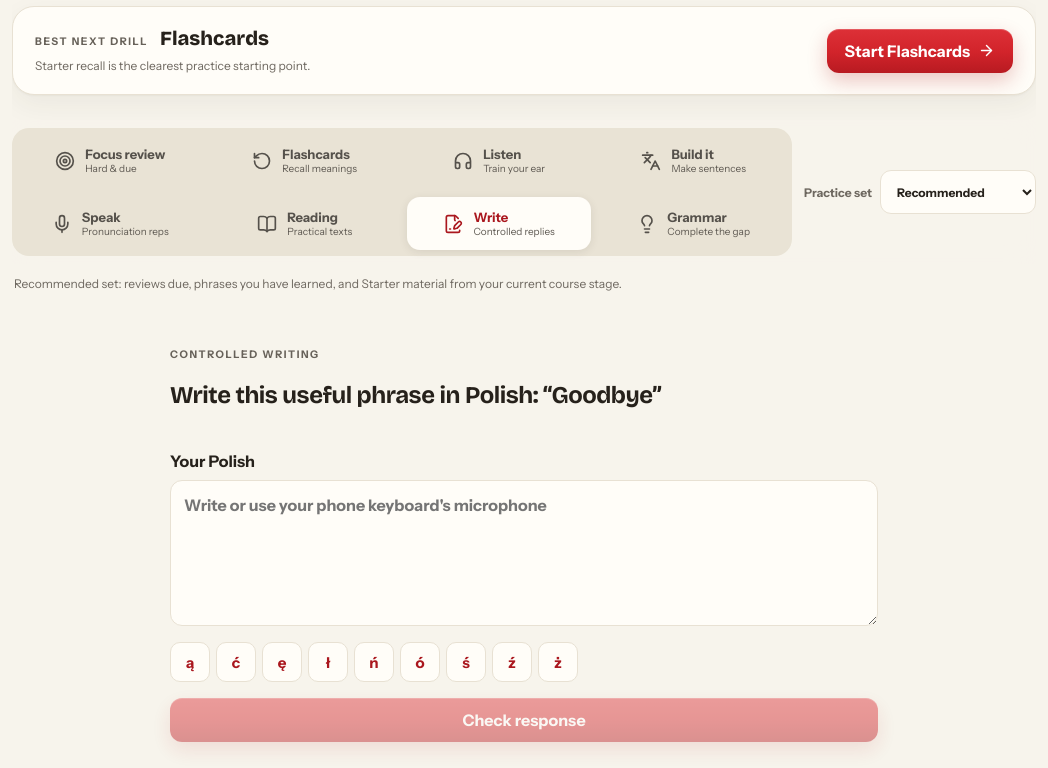
Test: expanded practice modes › scores an accepted controlled-writing answer
(page scrolled)
Type "Do widzenia" into the text box labelled "Your Polish".
click(524, 554); type("Do widzenia")  # box left=170, top=480, right=878, bottom=626
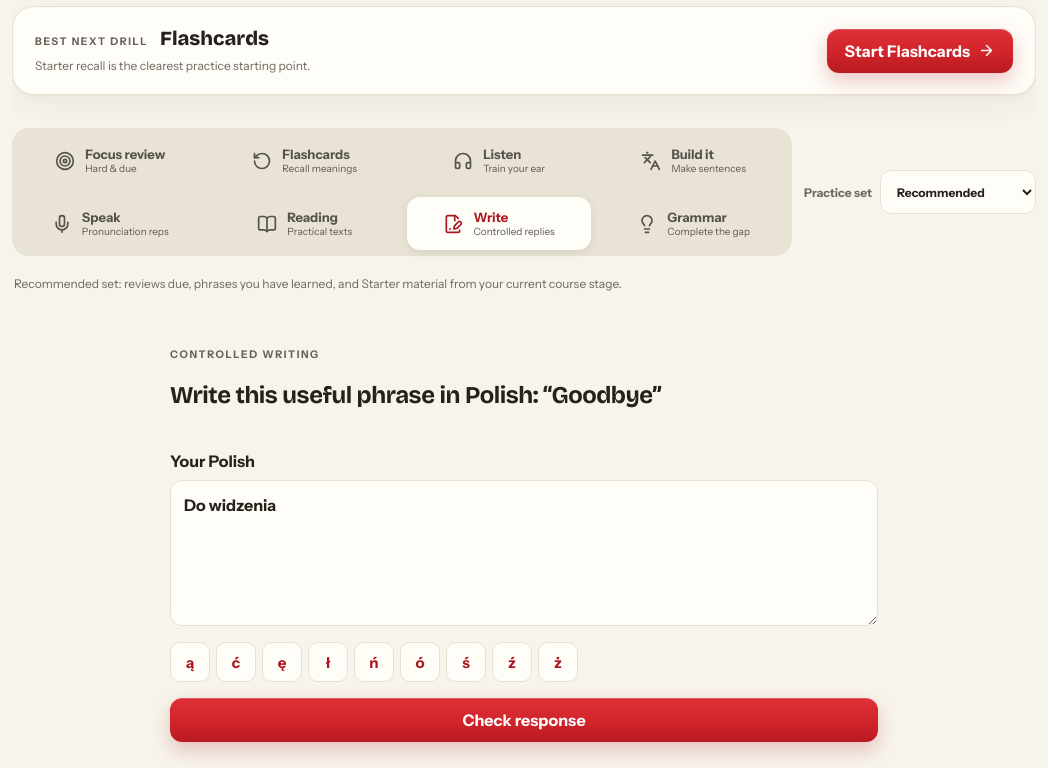
Click the button "Check response".
click(524, 720)  # box left=170, top=698, right=878, bottom=742
(page scrolled)
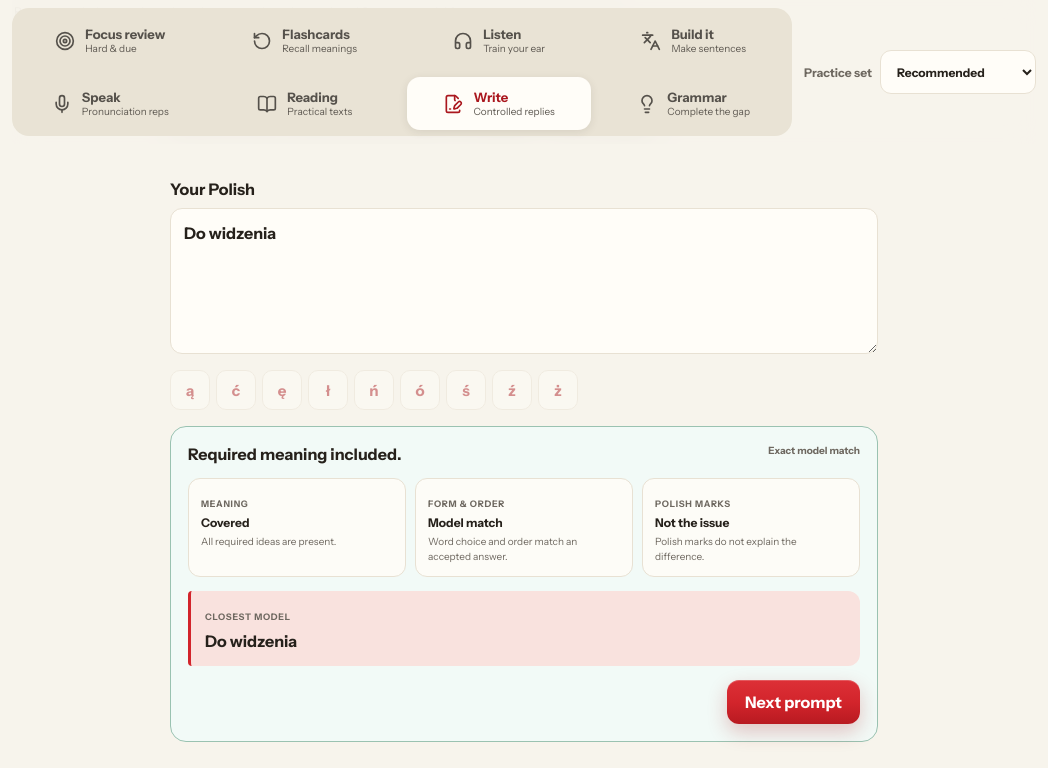
Expected: the message shows "Required meaning included", left=188, top=444, right=402, bottom=464
Expected: the message shows "closest model", left=205, top=612, right=291, bottom=622
